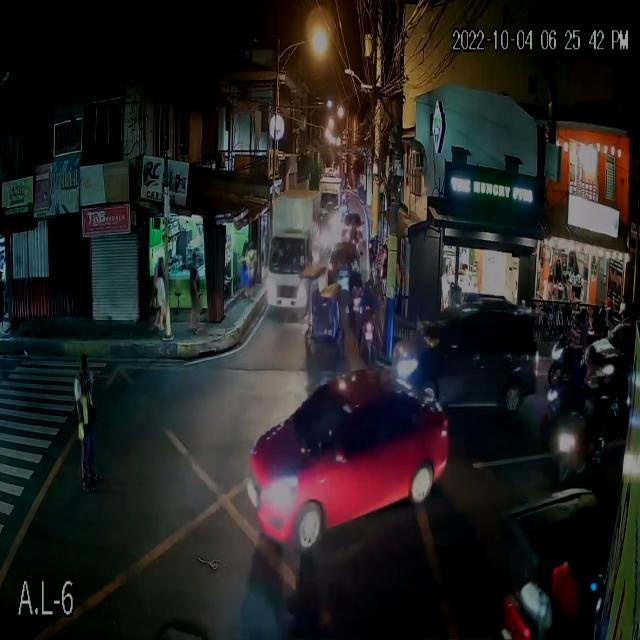Full-Faced: (572, 312, 584, 332), (365, 272, 376, 292), (351, 257, 362, 276), (597, 308, 607, 325)
